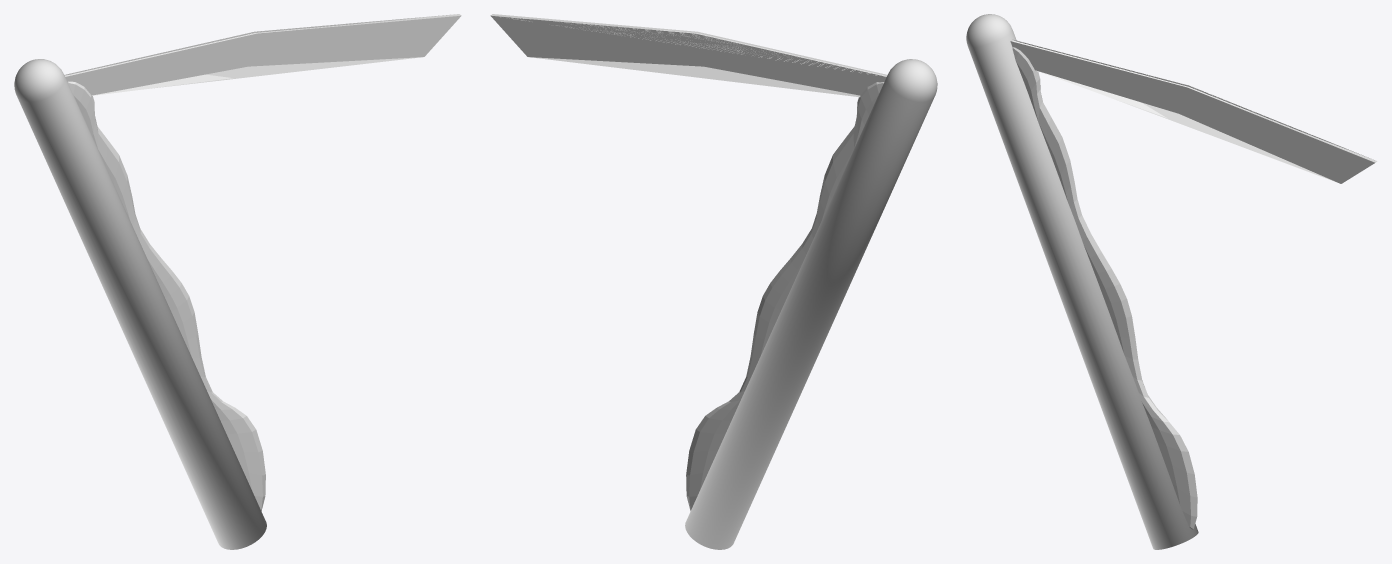
Rendered from Ryuuguunotukai.fbx.
The picture shows the model from 3 angles, left to right: view 1: azimuth 30°, elevation 25°; view 2: azimuth 150°, elevation 25°; view 3: azimuth 330°, elevation 25°; orthographic projection. The views are drawn at different scales.
Visible parts, largest first — view 1: Cube.001; view 2: Cube.001; view 3: Cube.001.
Boxes of the visible parts, x1,y1,x2,y2 form: Cube.001: [14, 14, 461, 549]; Cube.001: [490, 14, 937, 549]; Cube.001: [966, 14, 1377, 549].
Bounding box in the file's own units: 344 × 393 × 35.46.
2 materials, 1 textured.
